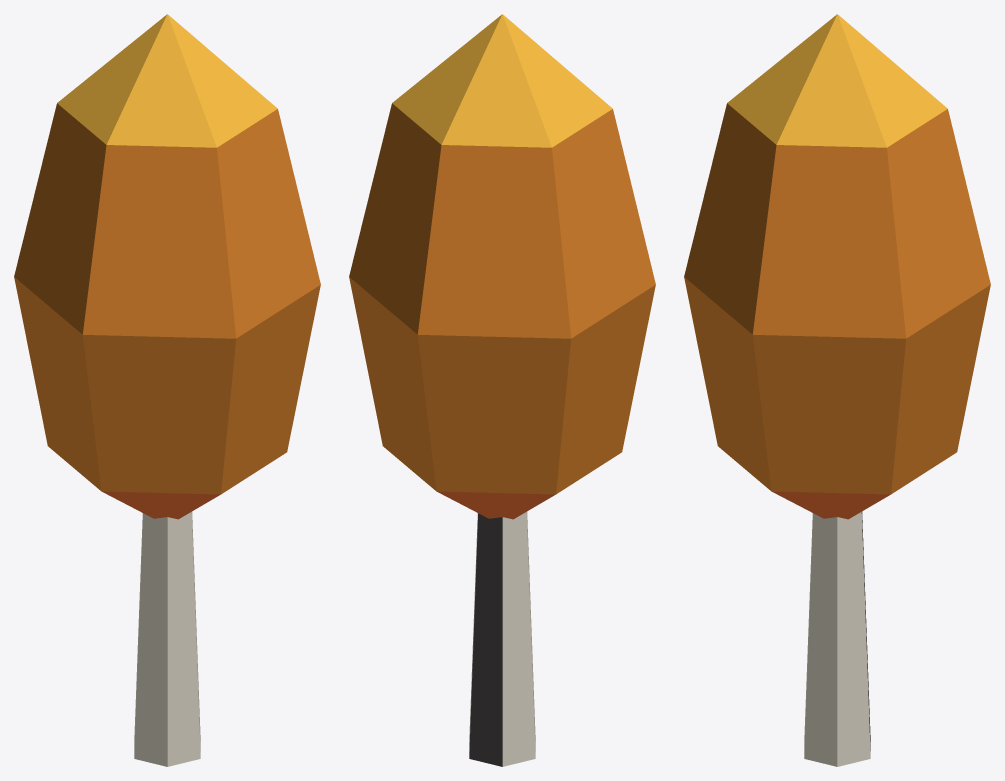
The model's file is tree_small_fall.glb.
3 renders of one model, left to right at view 1: azimuth 30°, elevation 25°; view 2: azimuth 150°, elevation 25°; view 3: azimuth 270°, elevation 25°, orthographic.
Parts seen in each view (by area): view 1: tree_small_fall; view 2: tree_small_fall; view 3: tree_small_fall.
Part boxes in pixels (x1,y1,x2,y2): tree_small_fall: [14, 14, 320, 766]; tree_small_fall: [349, 14, 655, 766]; tree_small_fall: [684, 14, 990, 766].
Bounding box in the file's own units: 0.322 × 0.9519 × 0.3593.
1 material, 1 textured.
